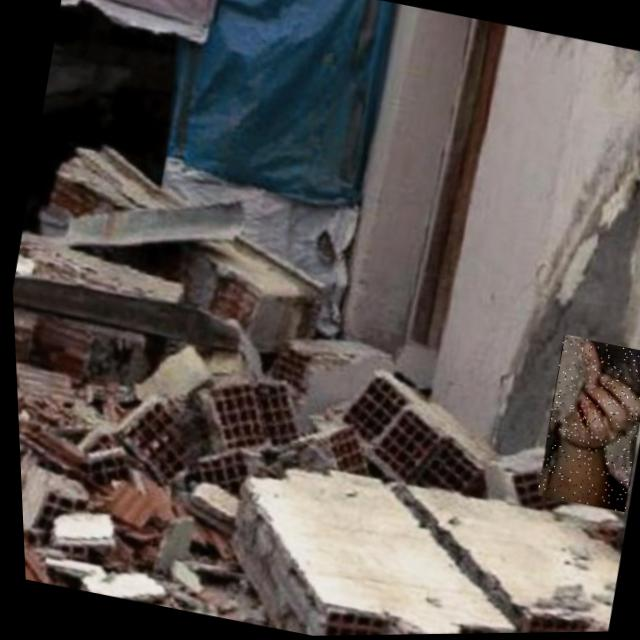Person in Rubble: (526, 336, 640, 515)
